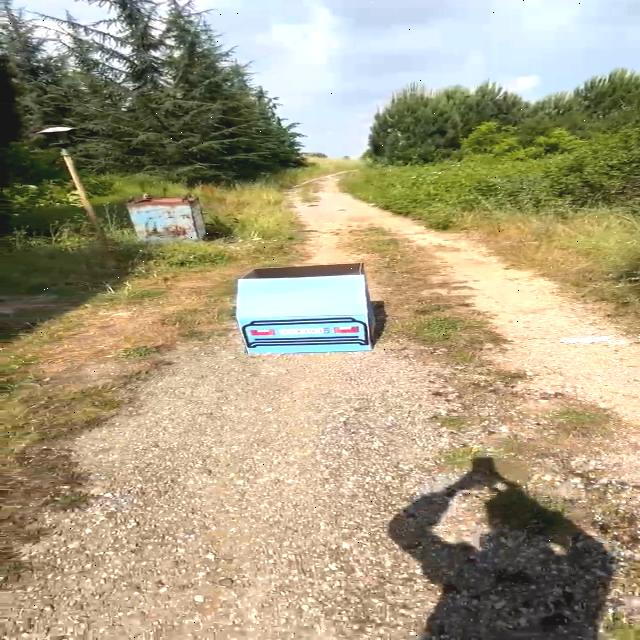blue_car: (216, 248, 420, 372)
